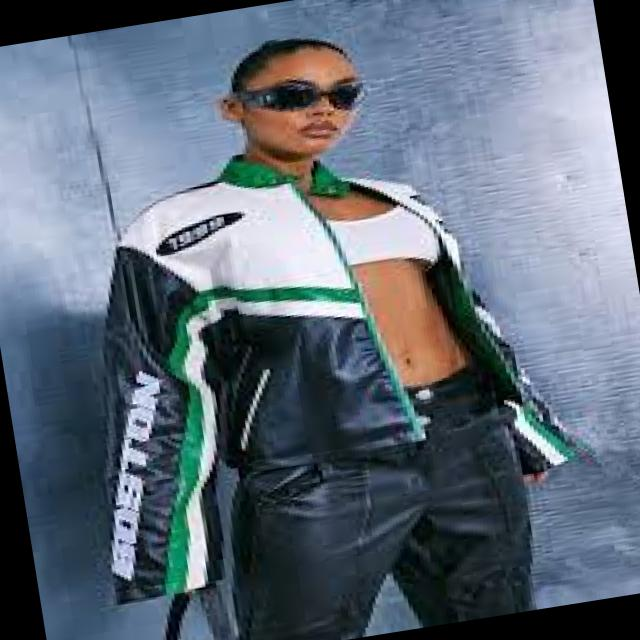Jacket: (97, 114, 628, 640)
